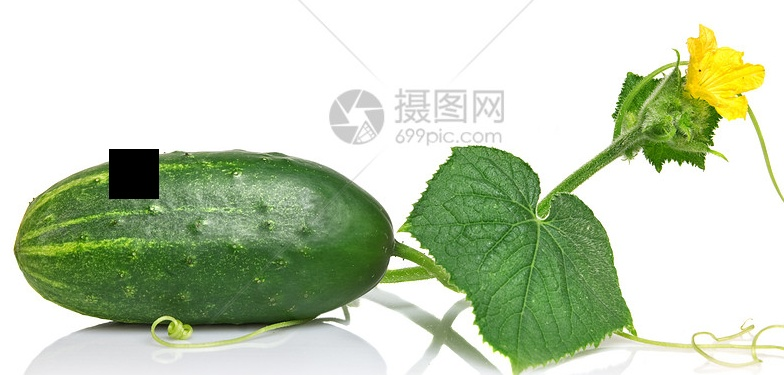cucumber: (13, 155, 397, 327)
cucumber_plant: (401, 5, 778, 366)
